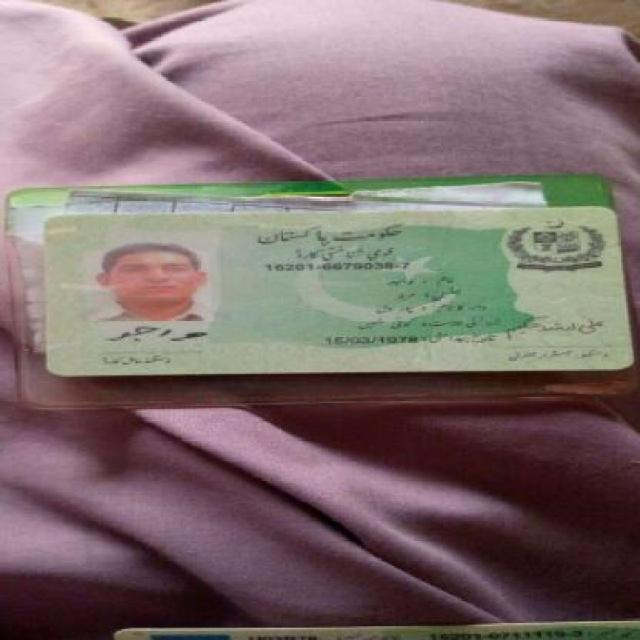Front: (26, 198, 639, 382)
